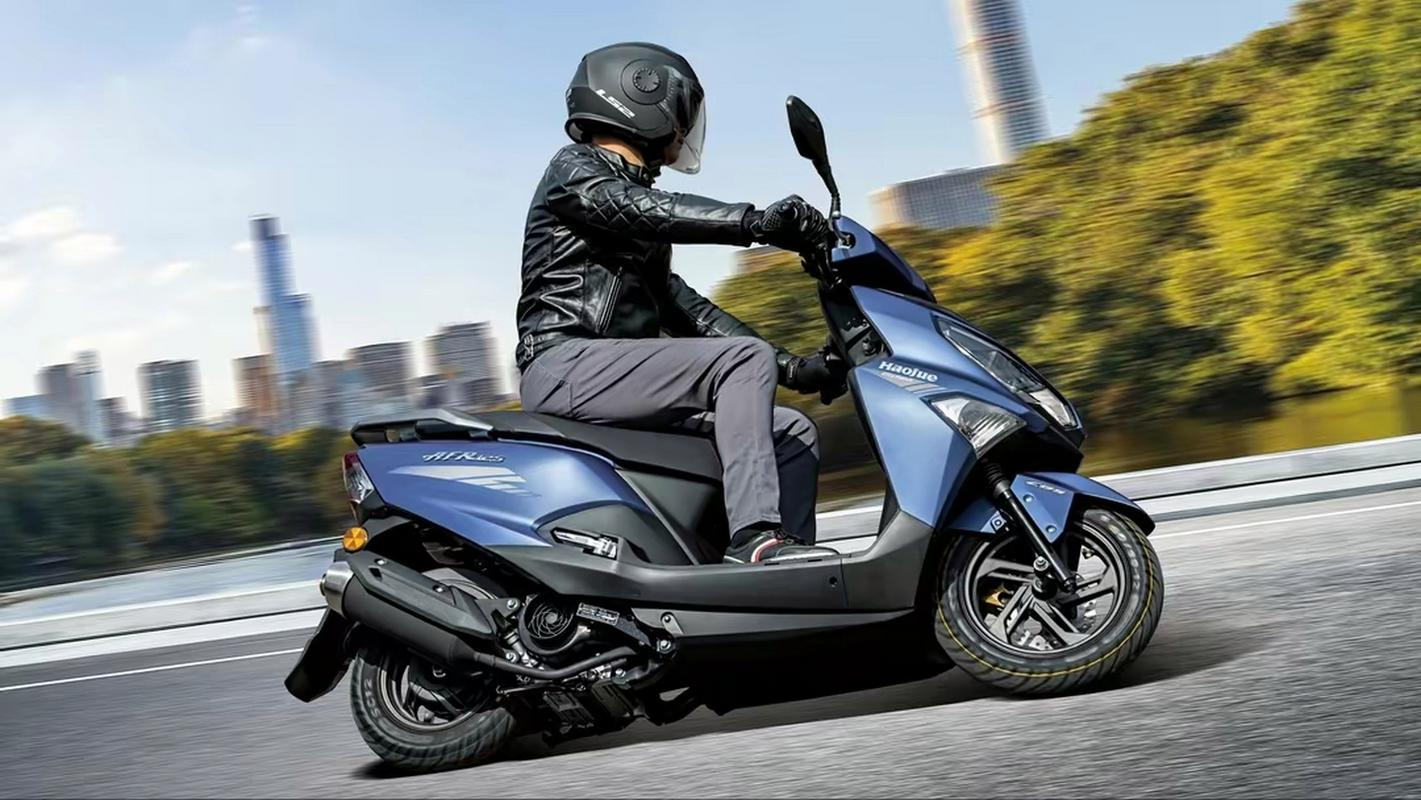摩托车: (288, 165, 1168, 787)
